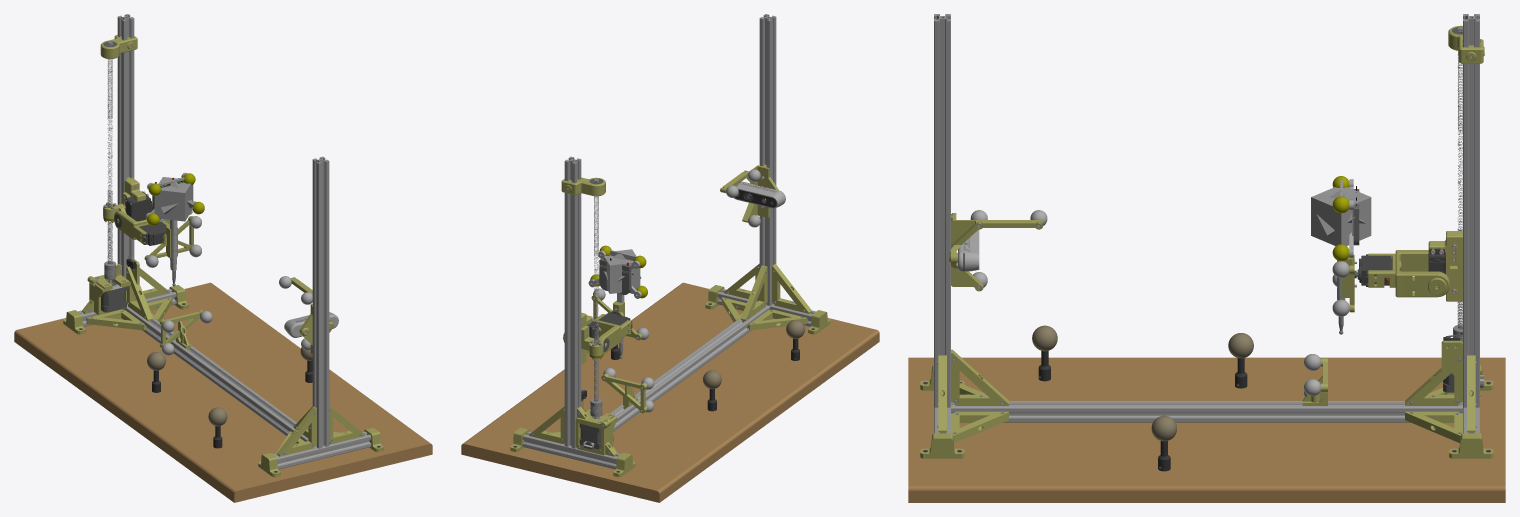
The model's file is benchmarking-platform.glb.
3 renders of one model, left to right at view 1: azimuth 30°, elevation 25°; view 2: azimuth 150°, elevation 25°; view 3: azimuth 270°, elevation 25°, orthographic. The views are drawn at different scales.
Visible parts, largest first — view 1: Base-1, Rail_500-5, Rail_500-1, Rail_600-1, Angolare-1 (×3), Rail_200-4, Multi_target-1, Vite_trapezia-1, Angolare_stepper_vite-1, Angolare_finecorsa-1, World_frame-1, Interfaccia_servo_1-1 (+5 smaller); view 2: Base-1, Rail_500-1, Rail_500-5, Angolare-1 (×4), Rail_600-1, Rail_200-1, Angolare_stepper_vite-1, IntelRealsense_D435_Multibody-1, Vite_trapezia-1, Camera_RS-1, Multi_target-1, World_frame-1 (+6 smaller); view 3: Base-1, Rail_600-1, Rail_500-5, Rail_500-1, Angolare-1 (×5), Multi_target-1, Angolare_finecorsa-1, Camera_RS-1, Cursor-1, Braccio_large - Copia-1, Braccio_chiusura - Copia-1, Vite_trapezia-1 (+8 smaller).
Part boxes in pixels (bbox=[...]): Base-1: bbox=[14, 282, 432, 502]; Rail_500-5: bbox=[312, 156, 329, 448]; Rail_500-1: bbox=[117, 14, 134, 304]; Rail_600-1: bbox=[123, 305, 308, 441]; Angolare-1 (×3): bbox=[86, 310, 364, 456]; Rail_200-4: bbox=[273, 431, 371, 469]; Multi_target-1: bbox=[154, 177, 193, 221]; Vite_trapezia-1: bbox=[107, 41, 112, 264]; Angolare_stepper_vite-1: bbox=[82, 264, 130, 315]; Angolare_finecorsa-1: bbox=[126, 258, 153, 322]; World_frame-1: bbox=[159, 310, 203, 350]; Interfaccia_servo_1-1: bbox=[144, 216, 193, 260]; Base-1: bbox=[461, 282, 879, 502]; Rail_500-1: bbox=[564, 156, 581, 448]; Rail_500-5: bbox=[759, 14, 776, 305]; Angolare-1 (×4): bbox=[529, 264, 811, 443]; Rail_600-1: bbox=[610, 305, 770, 431]; Rail_200-1: bbox=[522, 431, 620, 469]; Angolare_stepper_vite-1: bbox=[575, 406, 617, 456]; IntelRealsense_D435_Multibody-1: bbox=[734, 181, 785, 208]; Vite_trapezia-1: bbox=[594, 178, 598, 401]; Camera_RS-1: bbox=[720, 164, 778, 222]; Multi_target-1: bbox=[605, 249, 640, 293]; World_frame-1: bbox=[601, 373, 647, 413]; Base-1: bbox=[908, 357, 1505, 502]; Rail_600-1: bbox=[951, 401, 1462, 422]; Rail_500-5: bbox=[934, 14, 950, 407]; Rail_500-1: bbox=[1463, 14, 1479, 407]; Angolare-1 (×5): bbox=[938, 349, 1475, 442]; Multi_target-1: bbox=[1311, 187, 1371, 245]; Angolare_finecorsa-1: bbox=[1405, 340, 1462, 405]; Camera_RS-1: bbox=[949, 213, 1043, 291]; Cursor-1: bbox=[1428, 231, 1462, 301]; Braccio_large - Copia-1: bbox=[1395, 250, 1428, 297]; Braccio_chiusura - Copia-1: bbox=[1404, 271, 1449, 297]; Vite_trapezia-1: bbox=[1457, 27, 1462, 329].
Size of the model in its own units: 0.364 by 0.543 by 0.7.
Materials: 100 (1 with a texture image).
